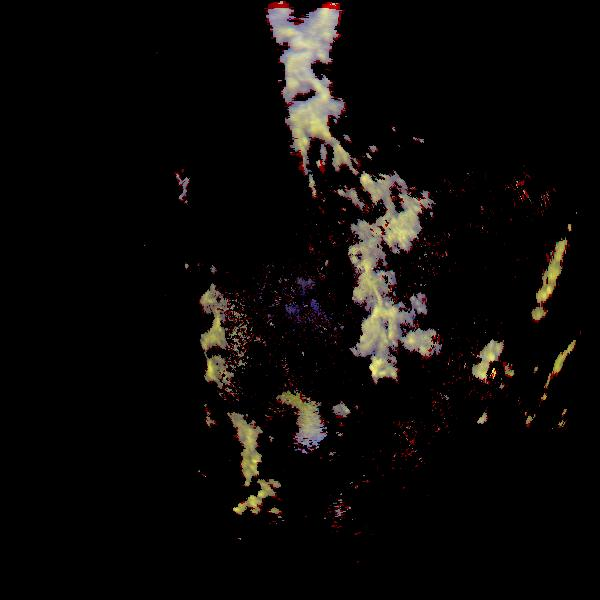roost: (253, 388, 328, 463)
